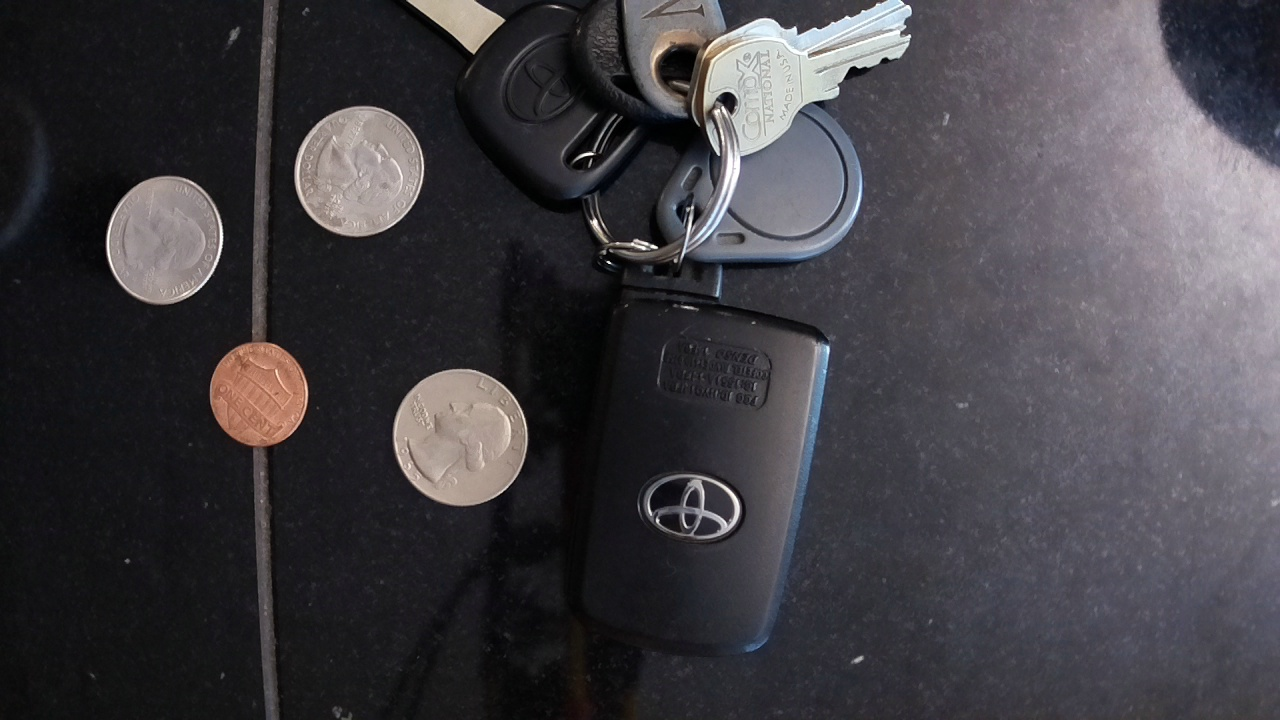penny: (206, 337, 312, 451)
quarter: (389, 364, 531, 514), (295, 102, 427, 240), (102, 172, 224, 308)
